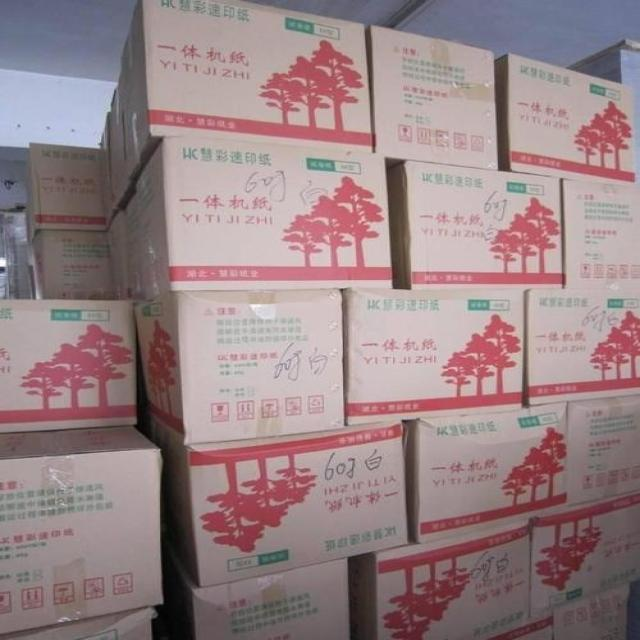box: (142, 413, 410, 587), (124, 136, 392, 301), (122, 0, 372, 166), (0, 426, 164, 635), (136, 289, 346, 446), (343, 287, 524, 425), (407, 402, 568, 544), (385, 161, 562, 290), (348, 515, 532, 639), (366, 25, 498, 171), (495, 54, 635, 186), (0, 299, 137, 433), (168, 552, 351, 640), (529, 490, 640, 618), (522, 289, 640, 405), (561, 177, 639, 292), (24, 143, 106, 243), (568, 395, 639, 507), (28, 230, 114, 300), (1, 610, 154, 640), (553, 584, 630, 640), (116, 56, 140, 176), (110, 87, 131, 211), (474, 611, 554, 639)
